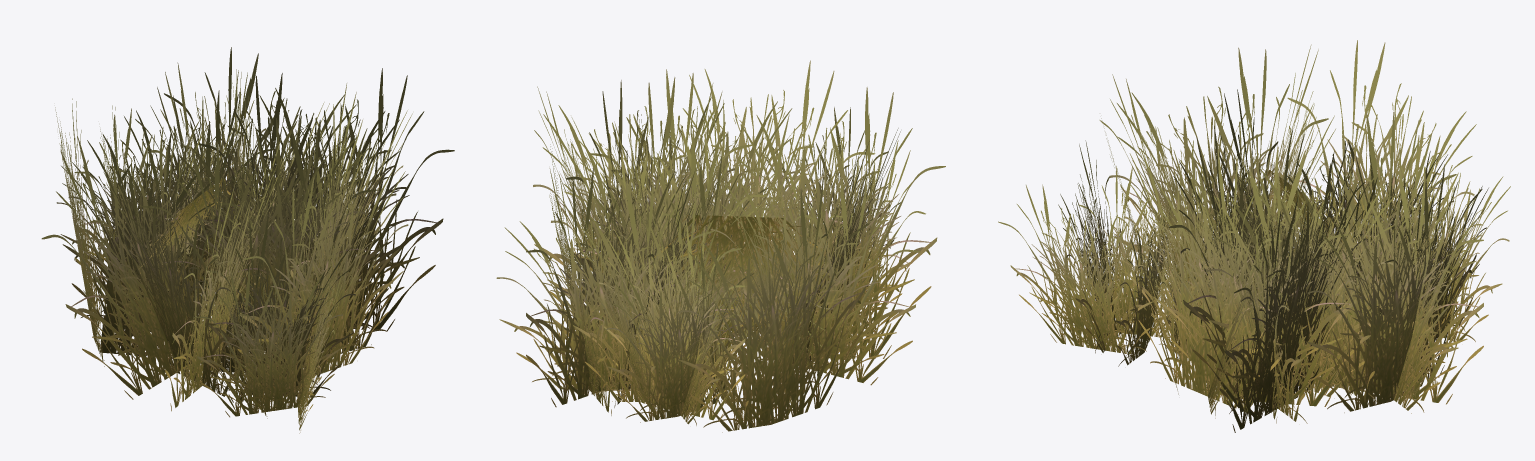
Rendered from cao.FBX.
3 views of the same model, side by side, from view 1: azimuth 30°, elevation 25°; view 2: azimuth 150°, elevation 25°; view 3: azimuth 270°, elevation 25° (orthographic). The views are drawn at different scales.
Visible parts, largest first — view 1: Box001; view 2: Box001; view 3: Box001.
Boxes of the visible parts, bbox=[...] form: Box001: bbox=[41, 47, 454, 433]; Box001: bbox=[496, 60, 945, 432]; Box001: bbox=[998, 40, 1510, 432].
Size of the model in its own units: 44.77 by 26.85 by 46.03.
Materials: 1 (1 with a texture image).
